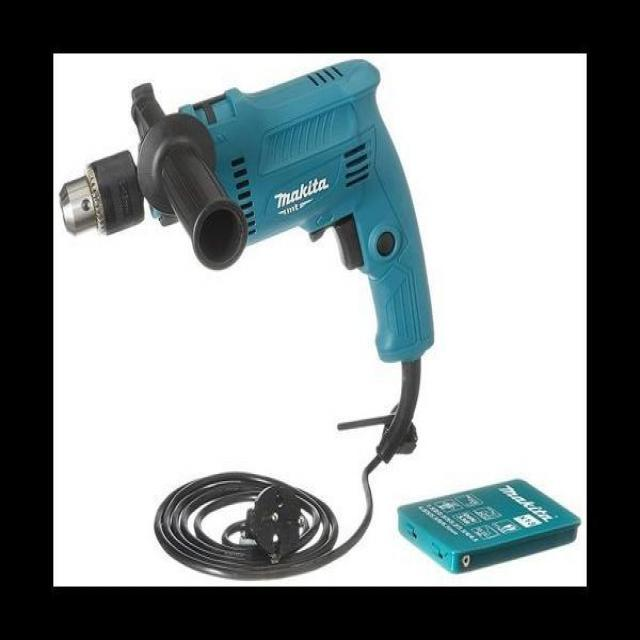drill: (59, 59, 434, 464)
